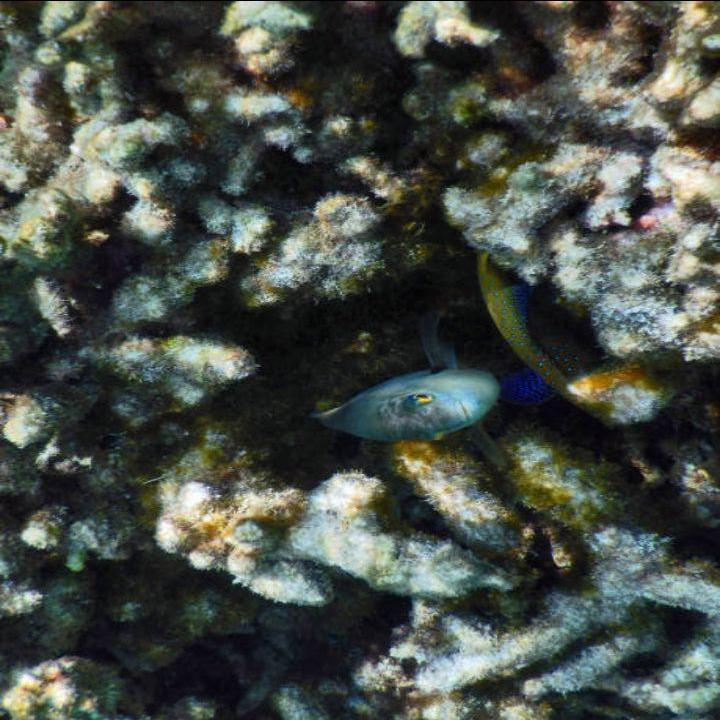Dead Coral: (45, 25, 432, 602)
